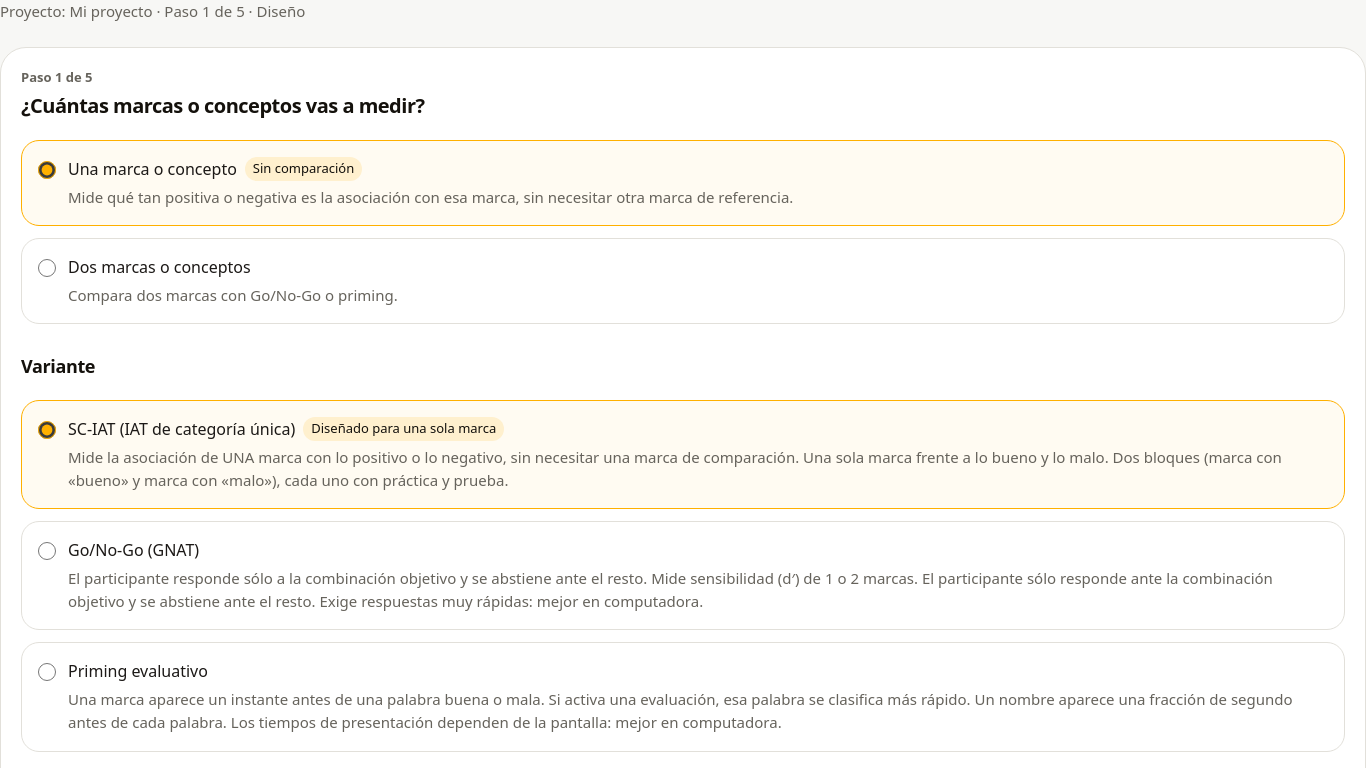
Test: VariantBuilder › con un concepto ofrece las tres variantes; con dos, sólo las que lo admiten
Click the radio button labelled "Dos marcas o conceptos".
click(47, 268)  # box x1=38 y1=259 x2=56 y2=277
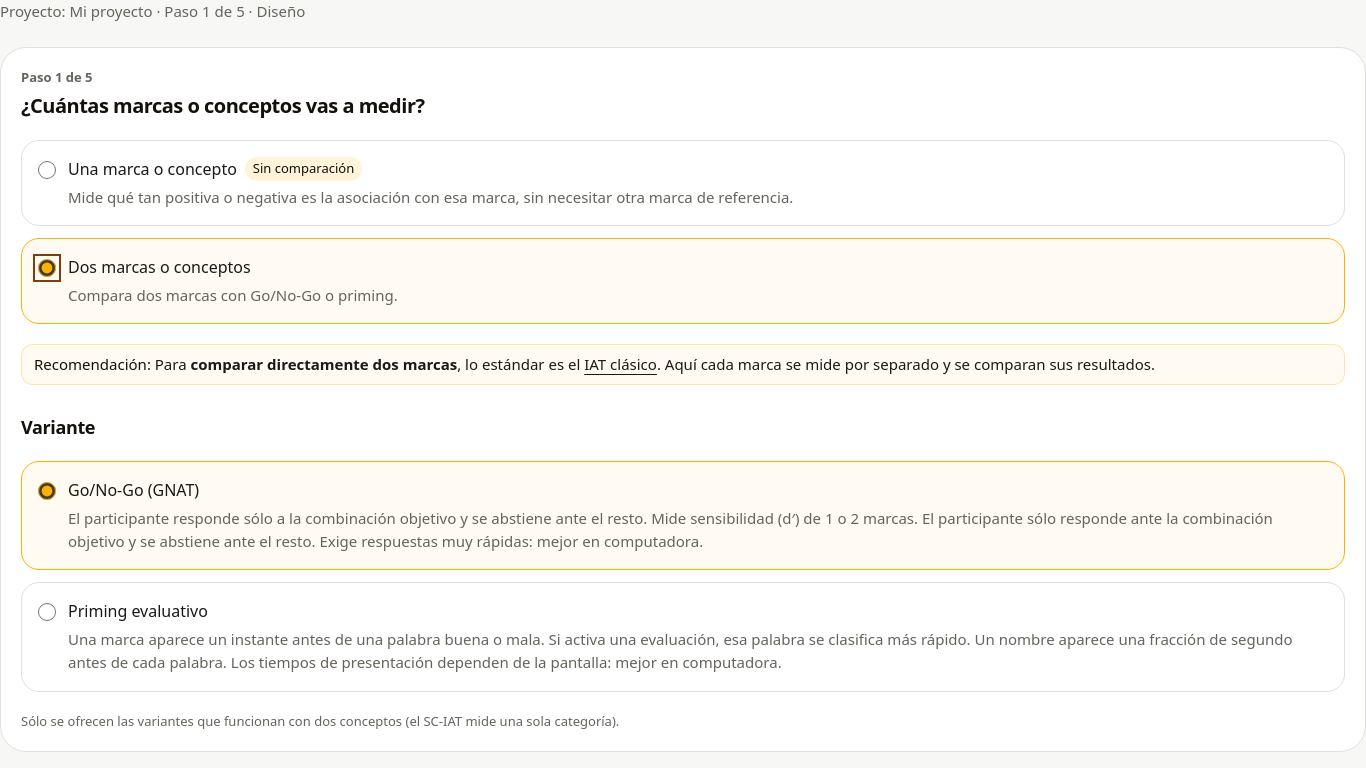
Now the link "IAT clásico" is shown, box x1=584 y1=354 x2=657 y2=374
